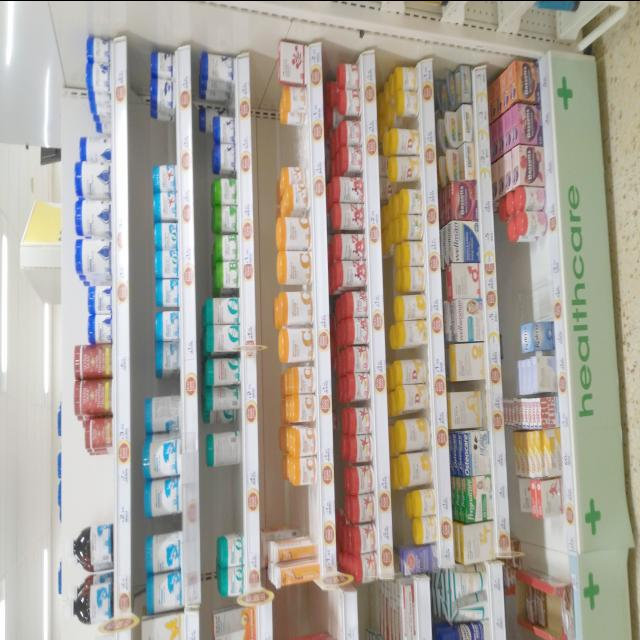empty_space: (507, 250, 548, 322), (285, 591, 339, 637), (82, 456, 114, 527), (278, 488, 318, 536), (209, 468, 241, 524), (363, 589, 401, 634), (528, 517, 563, 565), (146, 125, 178, 163), (275, 127, 305, 161), (153, 373, 180, 389)
